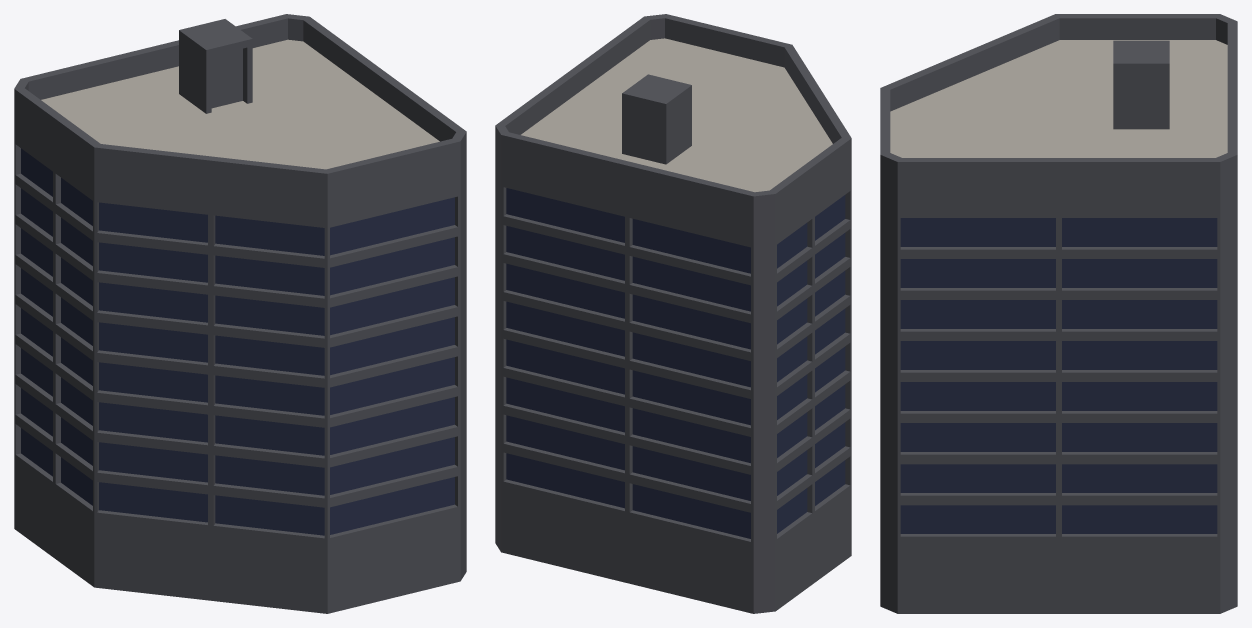
File: MOD_ShortBuilding_A.fbx
3 views of the same model, side by side, from view 1: azimuth 30°, elevation 25°; view 2: azimuth 150°, elevation 25°; view 3: azimuth 270°, elevation 25° (orthographic). The views are drawn at different scales.
Parts seen in each view (by area): view 1: MOD_ShortBuilding_A_LOD0; view 2: MOD_ShortBuilding_A_LOD0; view 3: MOD_ShortBuilding_A_LOD0.
Part boxes in pixels (x1=…): MOD_ShortBuilding_A_LOD0: x1=14, y1=14, x2=466, y2=613; MOD_ShortBuilding_A_LOD0: x1=495, y1=14, x2=851, y2=613; MOD_ShortBuilding_A_LOD0: x1=880, y1=14, x2=1237, y2=613.
Bounding box in the file's own units: 3503 × 5466 × 3573.
